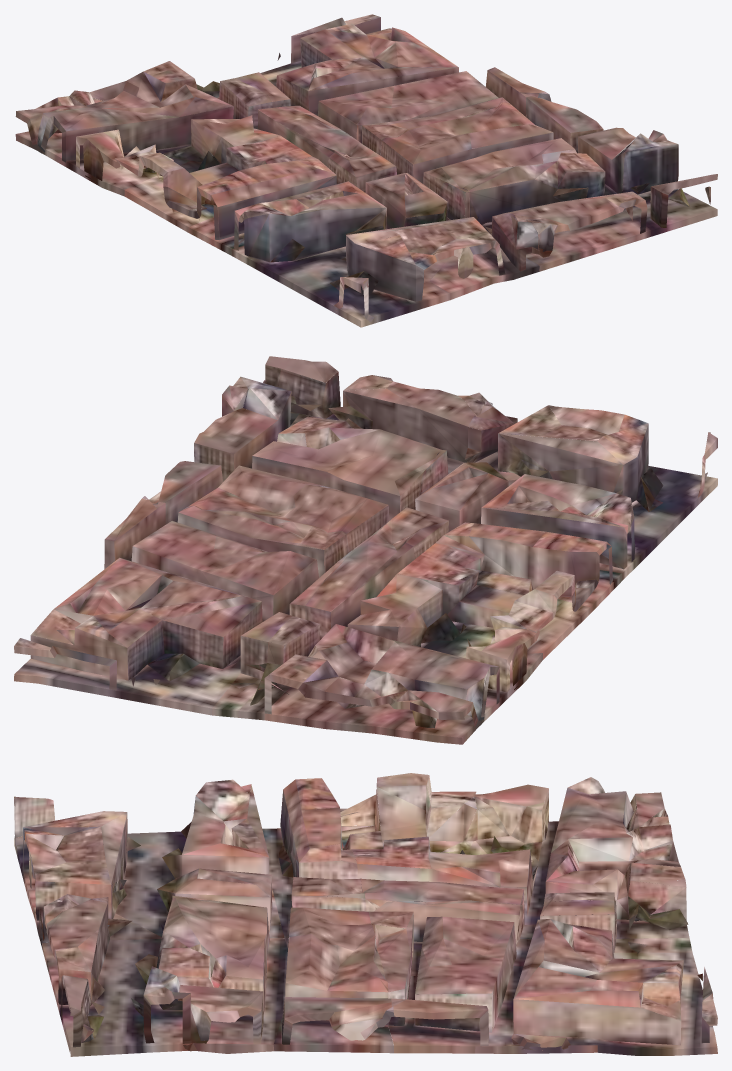
The picture shows the model from 3 angles, top to bottom: view 1: azimuth 30°, elevation 25°; view 2: azimuth 150°, elevation 25°; view 3: azimuth 270°, elevation 25°; orthographic projection. The views are drawn at different scales.
Visible parts, largest first — view 1: Mesh_0; view 2: Mesh_0; view 3: Mesh_0.
Part boxes in pixels (bbox=[...]): Mesh_0: bbox=[15, 14, 717, 327]; Mesh_0: bbox=[14, 356, 717, 744]; Mesh_0: bbox=[14, 773, 717, 1056].
Bounding box in the file's own units: 267 × 47.93 × 330.
Materials: 2 (2 with a texture image).
